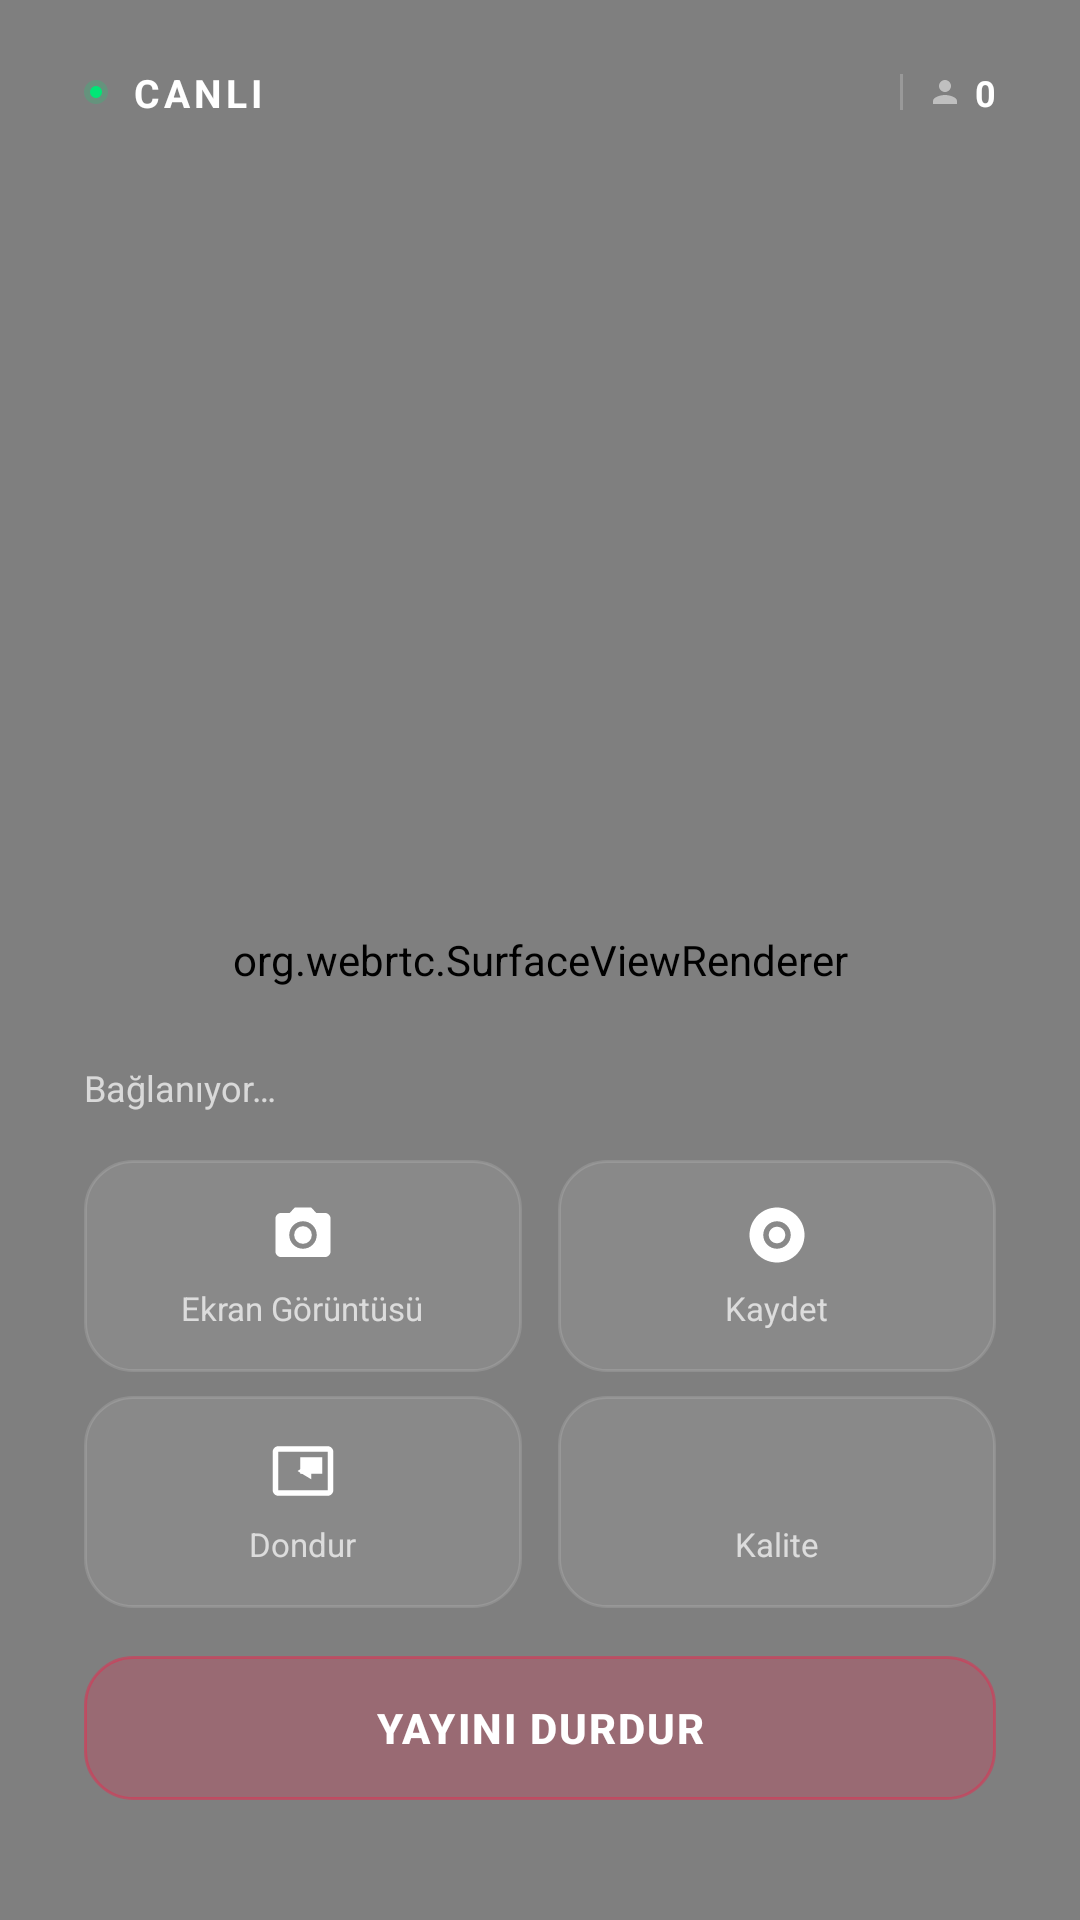

Icon click points for this 1080 × 1920 phone screenshot, format (x=x, y=y):
camera: (x=303, y=1232)
viewer: (x=945, y=92)
